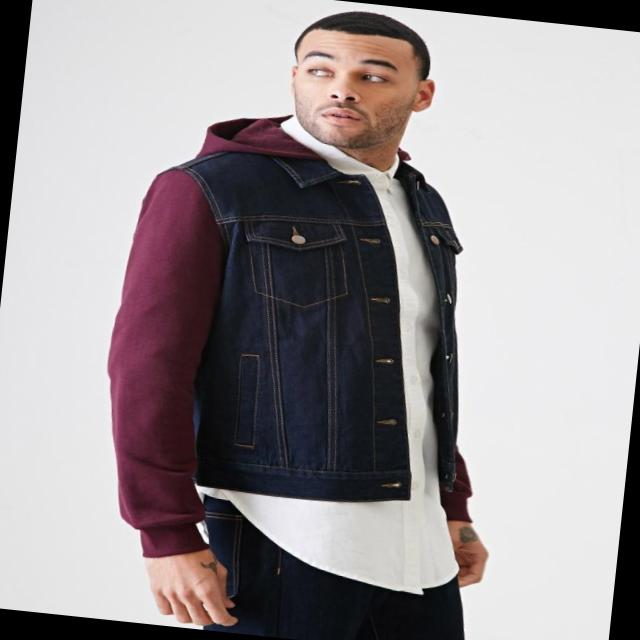Jacket: (82, 117, 498, 570)
